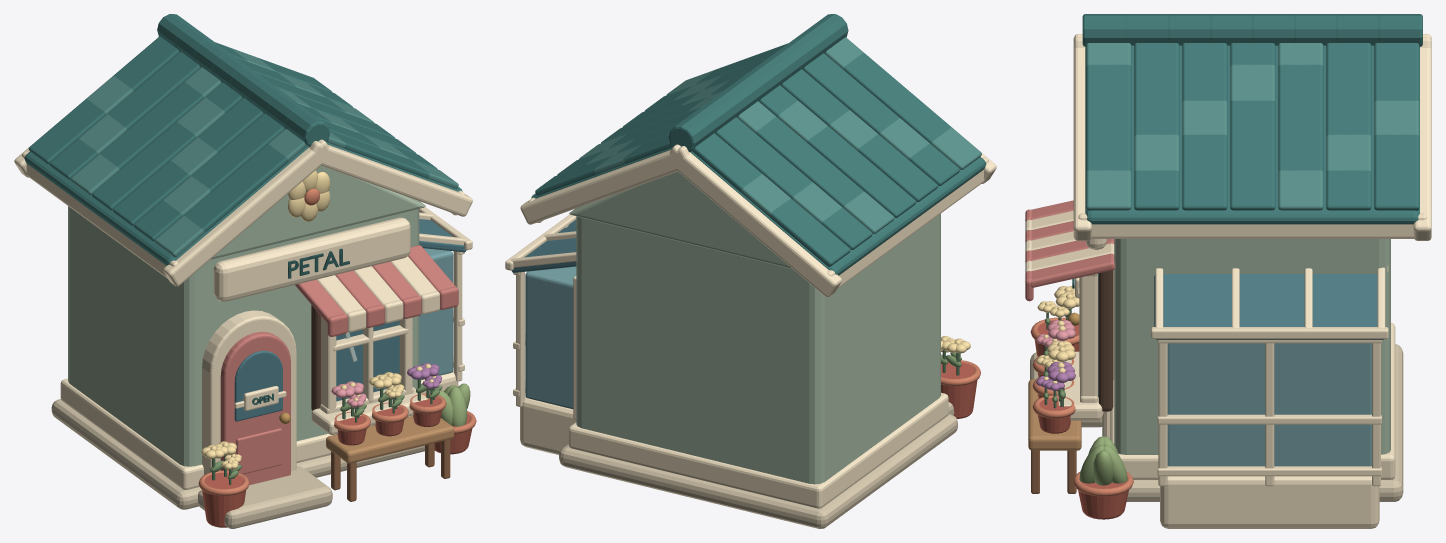
File: flower_shop.glb
The picture shows the model from 3 angles, left to right: view 1: azimuth 30°, elevation 25°; view 2: azimuth 150°, elevation 25°; view 3: azimuth 270°, elevation 25°; orthographic projection. The views are drawn at different scales.
Visible parts, largest first — view 1: Wall • plaster shell.002, Florist • sign backing, Gable • plaster triangle.001, Door • stone arch.002, Door • inset painted panel.002, Roof • cream bargeboard.004, Foundation • rounded stone plinth.002, Wall • lower skirting.002, Door • doorstep.002, Roof • cream bargeboard.006, Florist • flower stand, Roof • thick slope.002 (+71 smaller); view 2: Wall • plaster shell.002, Wall • lower skirting.002, Foundation • rounded stone plinth.002, Gable • plaster triangle.001, Florist • greenhouse glass, Roof • cream bargeboard.005, Roof • cream bargeboard.007, Roof • thick slope.002, Florist • greenhouse base, Roof • eave fascia.002, Florist • tall front bouquet ceramic pot, Roof • shingle -1 4 6.001 (+47 smaller); view 3: Florist • greenhouse glass, Wall • plaster shell.002, Florist • greenhouse base, Florist • greenhouse roof, Roof • thick slope.003, Roof • eave fascia.003, Florist • greenhouse roof edge.001, Foundation • rounded stone plinth.002, Roof • cream bargeboard.006, Roof • cream bargeboard.007, Florist • greenhouse side rail, Florist • greenhouse side rail.001 (+65 smaller).
Boxes of the visible parts, <box> form: Wall • plaster shell.002: <box>68,200,419,466</box>; Florist • sign backing: <box>213,217,410,301</box>; Gable • plaster triangle.001: <box>211,165,425,259</box>; Door • stone arch.002: <box>202,310,296,474</box>; Door • inset painted panel.002: <box>220,331,290,485</box>; Roof • cream bargeboard.004: <box>163,139,330,286</box>; Foundation • rounded stone plinth.002: <box>51,399,424,509</box>; Wall • lower skirting.002: <box>60,378,412,489</box>; Door • doorstep.002: <box>198,466,332,528</box>; Roof • cream bargeboard.006: <box>308,141,472,216</box>; Florist • flower stand: <box>326,416,454,463</box>; Roof • thick slope.002: <box>24,146,308,265</box>; Wall • plaster shell.002: <box>576,207,940,484</box>; Wall • lower skirting.002: <box>568,392,948,508</box>; Foundation • rounded stone plinth.002: <box>559,414,957,528</box>; Gable • plaster triangle.001: <box>569,171,792,268</box>; Florist • greenhouse glass: <box>525,266,576,409</box>; Roof • cream bargeboard.005: <box>668,144,841,297</box>; Roof • cream bargeboard.007: <box>520,146,690,224</box>; Roof • thick slope.002: <box>691,151,986,275</box>; Florist • greenhouse base: <box>520,396,576,454</box>; Roof • eave fascia.002: <box>827,157,988,289</box>; Florist • tall front bouquet ceramic pot: <box>941,362,977,418</box>; Roof • shingle -1 4 6.001: <box>798,223,850,266</box>; Florist • greenhouse glass: <box>1167,343,1371,466</box>; Wall • plaster shell.002: <box>1114,239,1390,454</box>; Florist • greenhouse base: <box>1160,476,1379,528</box>; Florist • greenhouse roof: <box>1154,274,1383,339</box>; Roof • thick slope.003: <box>1085,45,1419,224</box>; Roof • eave fascia.003: <box>1078,213,1427,238</box>; Florist • greenhouse roof edge.001: <box>1151,327,1388,339</box>; Foundation • rounded stone plinth.002: <box>1102,344,1403,501</box>; Roof • cream bargeboard.006: <box>1073,34,1091,240</box>; Roof • cream bargeboard.007: <box>1413,34,1431,240</box>; Florist • greenhouse side rail: <box>1157,466,1381,476</box>; Florist • greenhouse side rail.001: <box>1157,414,1381,424</box>.
Bounding box in the file's own units: 3.66 × 3.8 × 3.35.
